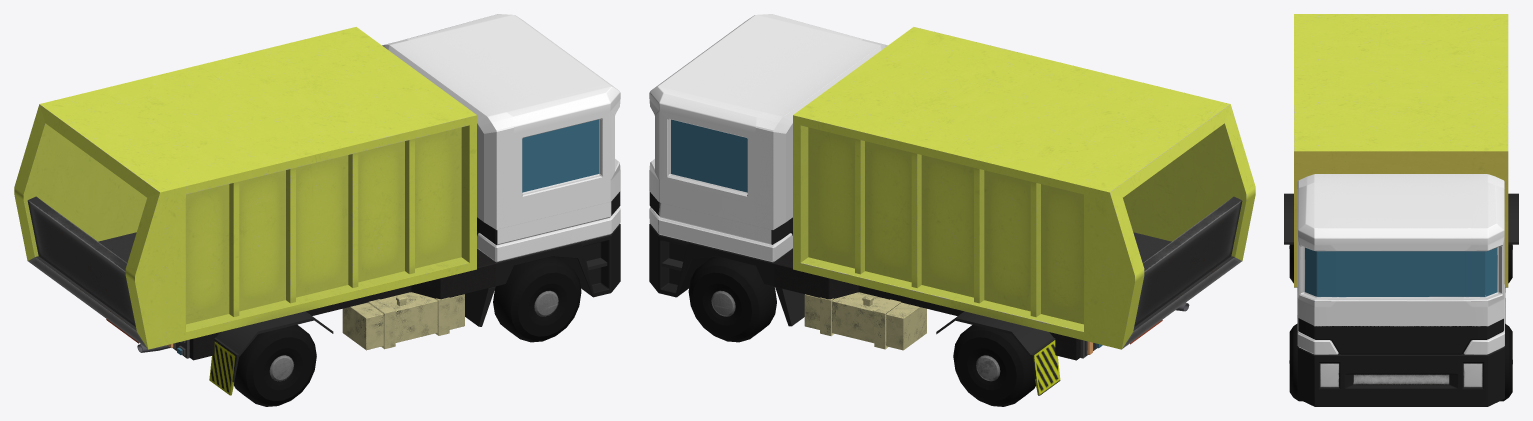
File: truck_txrd.fbx
3 renders of one model, left to right at view 1: azimuth 30°, elevation 25°; view 2: azimuth 150°, elevation 25°; view 3: azimuth 270°, elevation 25°, orthographic. The views are drawn at different scales.
Parts seen in each view (by area): view 1: polySurface4, pCube31, pCube1, pCylinder8, polySurface5, pCube24, pCube28, pCube25, pCube34, pCube8, pCube29, pCube30; view 2: polySurface5, pCube31, pCube1, pCylinder8, polySurface4, pCube24, pCube28, pCube25, pCube34, pCube8, pCube29, pCube30; view 3: pCube1, pCube31, pCube8, pCube23, pCube25, pCylinder8, pCube34.
Part boxes in pixels (x1,y1,x2,y2): polySurface4: [125, 115, 476, 349]; pCube31: [39, 27, 476, 197]; pCube1: [382, 14, 620, 229]; pCylinder8: [234, 256, 581, 406]; polySurface5: [14, 104, 146, 260]; pCube24: [27, 196, 135, 326]; pCube28: [342, 292, 464, 350]; pCube25: [477, 191, 620, 262]; pCube34: [209, 257, 607, 395]; pCube8: [477, 224, 620, 297]; pCube29: [189, 250, 495, 360]; pCube30: [28, 232, 147, 348]; polySurface5: [793, 115, 1144, 349]; pCube31: [793, 27, 1230, 197]; pCube1: [649, 14, 887, 229]; pCylinder8: [688, 256, 1035, 406]; polySurface4: [1123, 104, 1255, 260]; pCube24: [1134, 196, 1242, 326]; pCube28: [804, 292, 926, 350]; pCube25: [649, 192, 792, 262]; pCube34: [661, 258, 1060, 395]; pCube8: [649, 224, 792, 297]; pCube29: [774, 250, 1080, 360]; pCube30: [1122, 232, 1241, 348]; pCube1: [1297, 174, 1504, 326]; pCube31: [1294, 14, 1508, 151]; pCube8: [1297, 346, 1504, 406]; pCube23: [1294, 151, 1508, 287]; pCube25: [1297, 284, 1504, 354]; pCylinder8: [1289, 244, 1512, 401]; pCube34: [1284, 193, 1518, 317].
Bounding box in the file's own units: 8.66 × 4.07 × 3.99.
